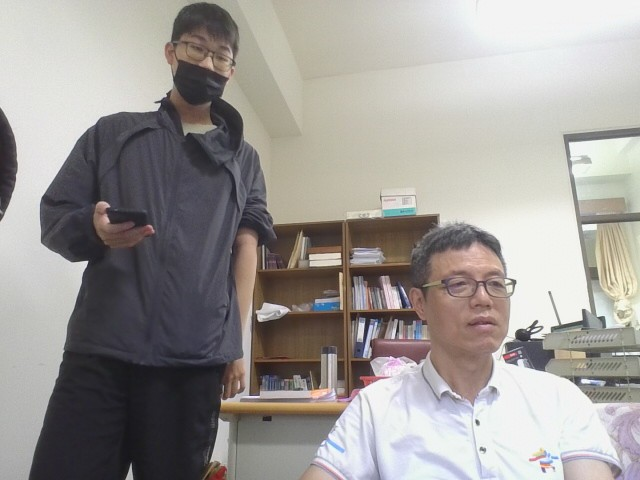No_Gloves: (90, 201, 155, 249), (219, 356, 249, 401)
No_Helmet: (405, 220, 519, 385), (160, 0, 241, 110)
person: (22, 2, 282, 477), (271, 205, 636, 480)
